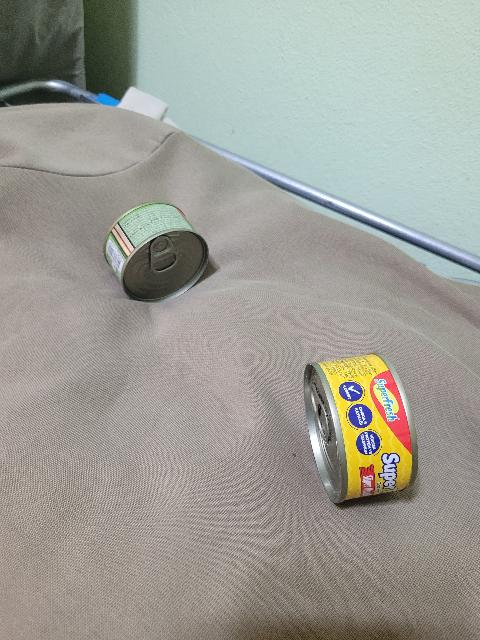Metal: (300, 356, 412, 504), (102, 201, 213, 304)
